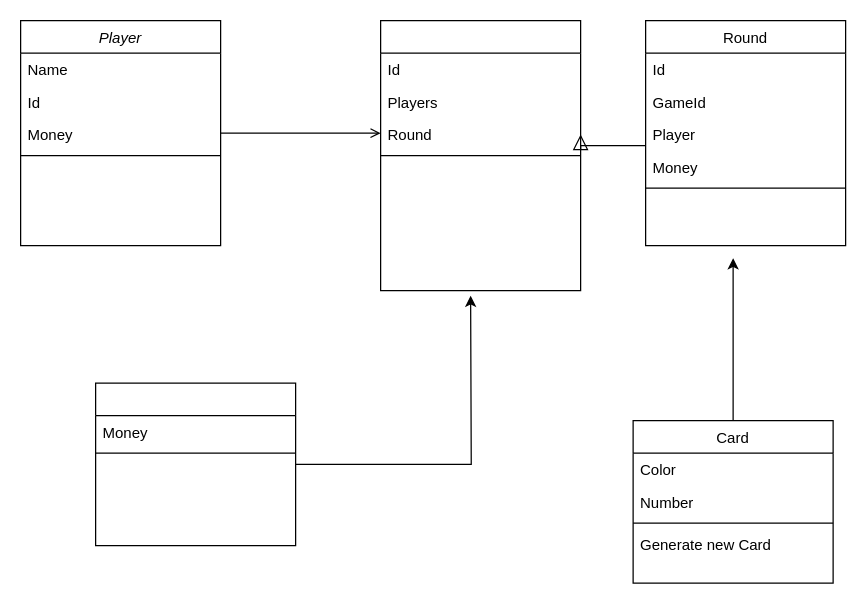
Some shapes in this 866 by 604 pixel diagram are drawn without their labels. Each missing label, with the box of its shape:
Bank: (94, 382, 296, 546)
Game: (379, 19, 581, 291)
